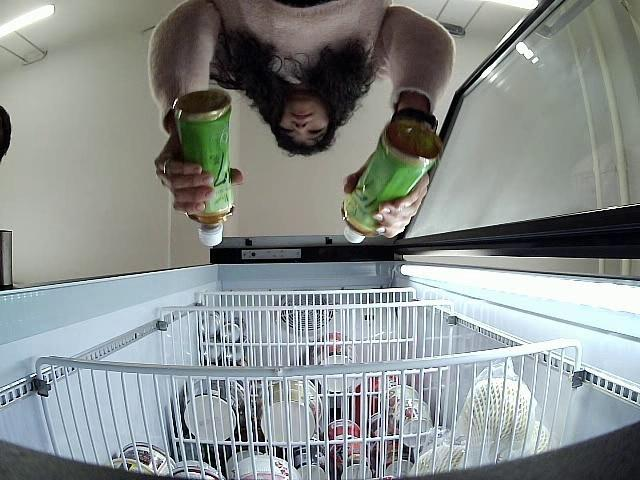19_17cha: (340, 119, 443, 246), (172, 90, 235, 248)
